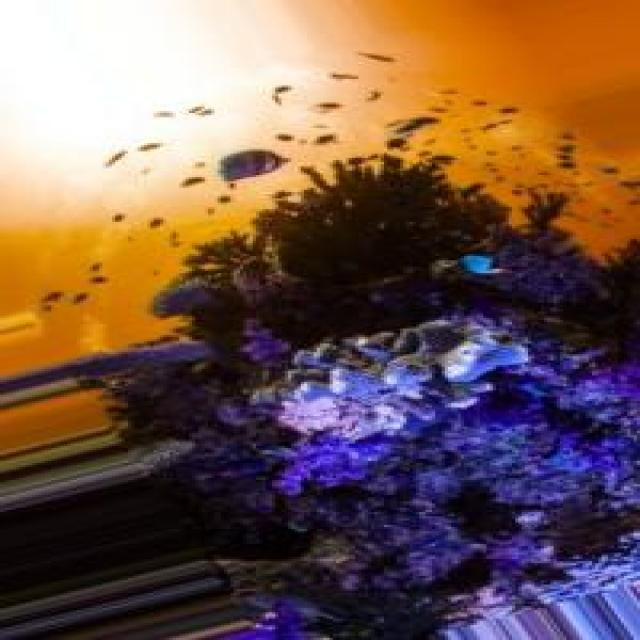Healthy: (68, 116, 640, 640), (279, 325, 523, 494)
